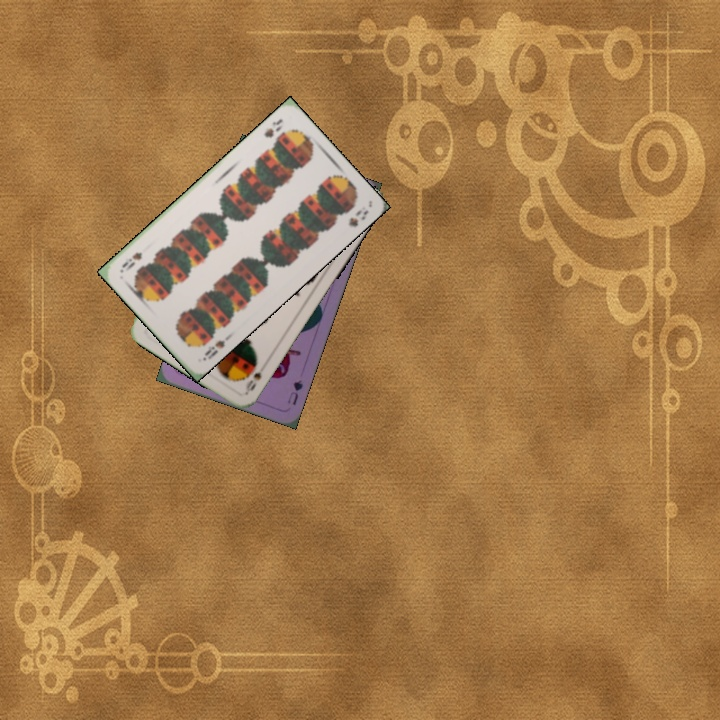GU: (283, 375, 306, 408)
S8: (260, 114, 285, 140), (201, 336, 227, 358)
SO: (242, 368, 264, 395)
